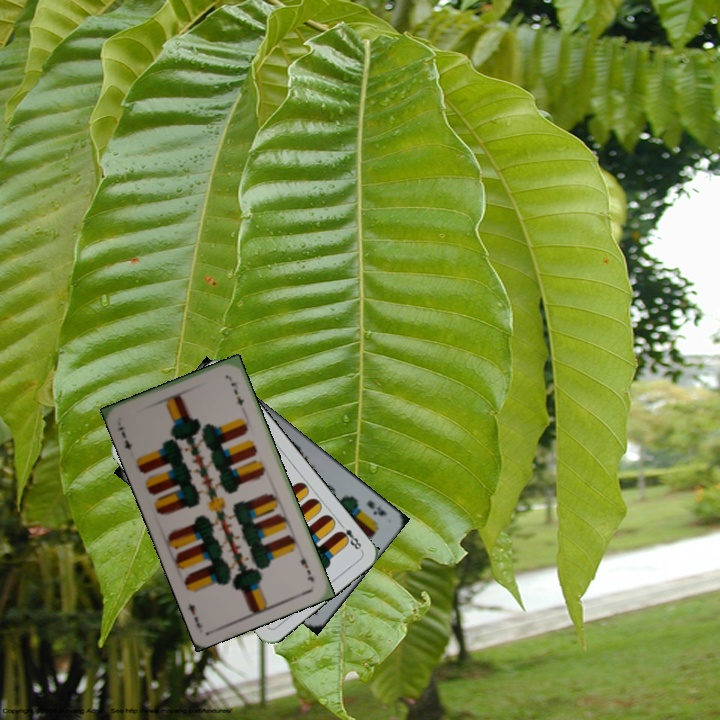E7: (295, 548, 317, 585), (113, 423, 135, 452)
E8: (334, 519, 365, 553)
EK: (362, 496, 390, 519)
